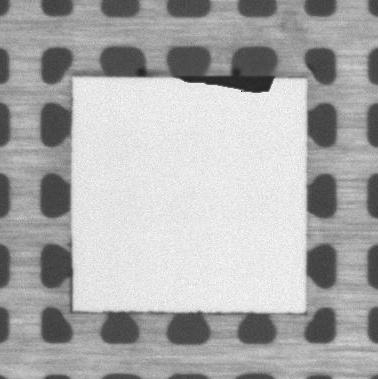DIE_BROKEN: (170, 70, 279, 94)
